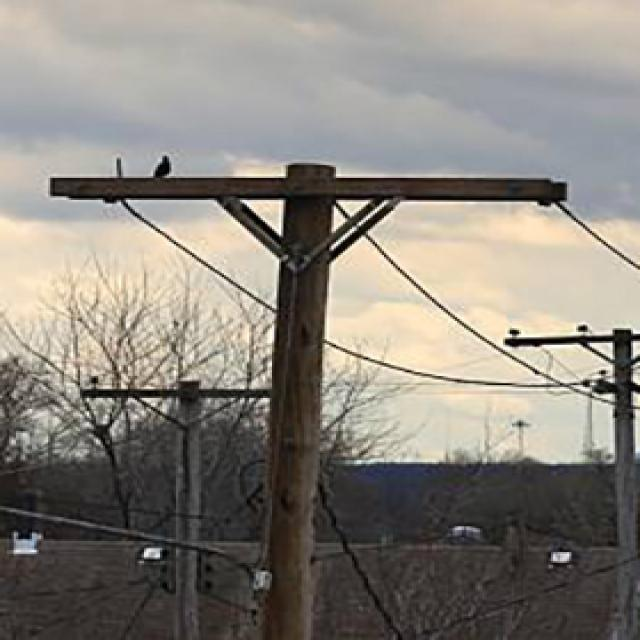pole: (22, 140, 584, 637)
